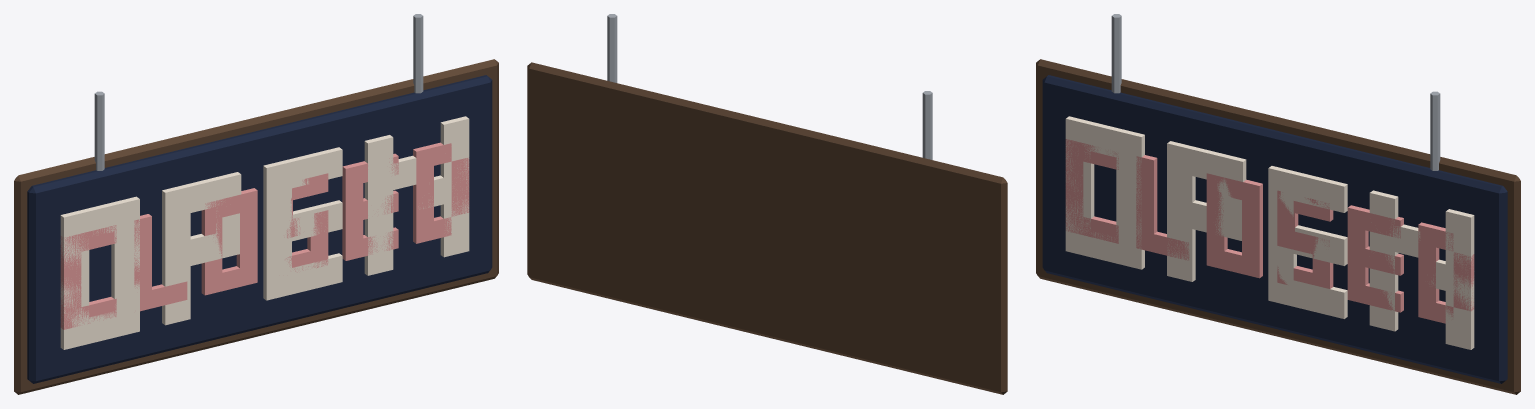
Rendered from CatCafe_Decor_DoorSign.glb.
3 renders of one model, left to right at view 1: azimuth 30°, elevation 25°; view 2: azimuth 150°, elevation 25°; view 3: azimuth 330°, elevation 25°, orthographic.
Parts seen in each view (by area): view 1: CatCafe_Decor_DoorSign_Closed, CatCafe_Decor_DoorSign_Open; view 2: CatCafe_Decor_DoorSign_Closed; view 3: CatCafe_Decor_DoorSign_Closed, CatCafe_Decor_DoorSign_Open.
Part boxes in pixels (x1=…): CatCafe_Decor_DoorSign_Closed: x1=14, y1=14, x2=498, y2=394; CatCafe_Decor_DoorSign_Open: x1=14, y1=116, x2=492, y2=394; CatCafe_Decor_DoorSign_Closed: x1=527, y1=14, x2=1007, y2=394; CatCafe_Decor_DoorSign_Closed: x1=1036, y1=14, x2=1520, y2=394; CatCafe_Decor_DoorSign_Open: x1=1036, y1=60, x2=1474, y2=349.
Bounding box in the file's own units: 3.35 × 1.88 × 0.15.
1 material, 1 textured.
